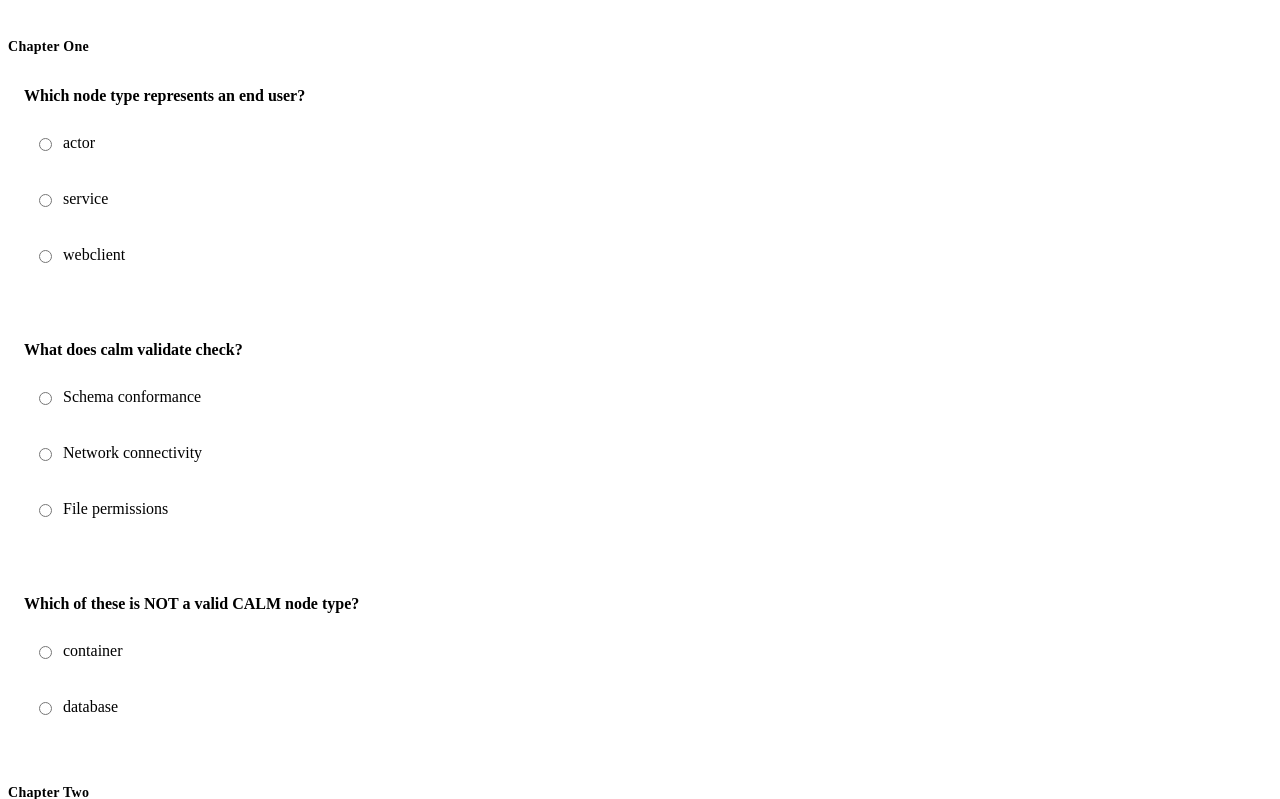
Test: Quiz › Test 9 (retake): After submit, Retake Quiz button appears and clicking it resets state
Click the radio button labelled "actor". click: point(46, 144)
box: x1=39 y1=138 x2=52 y2=151
(page scrolled)
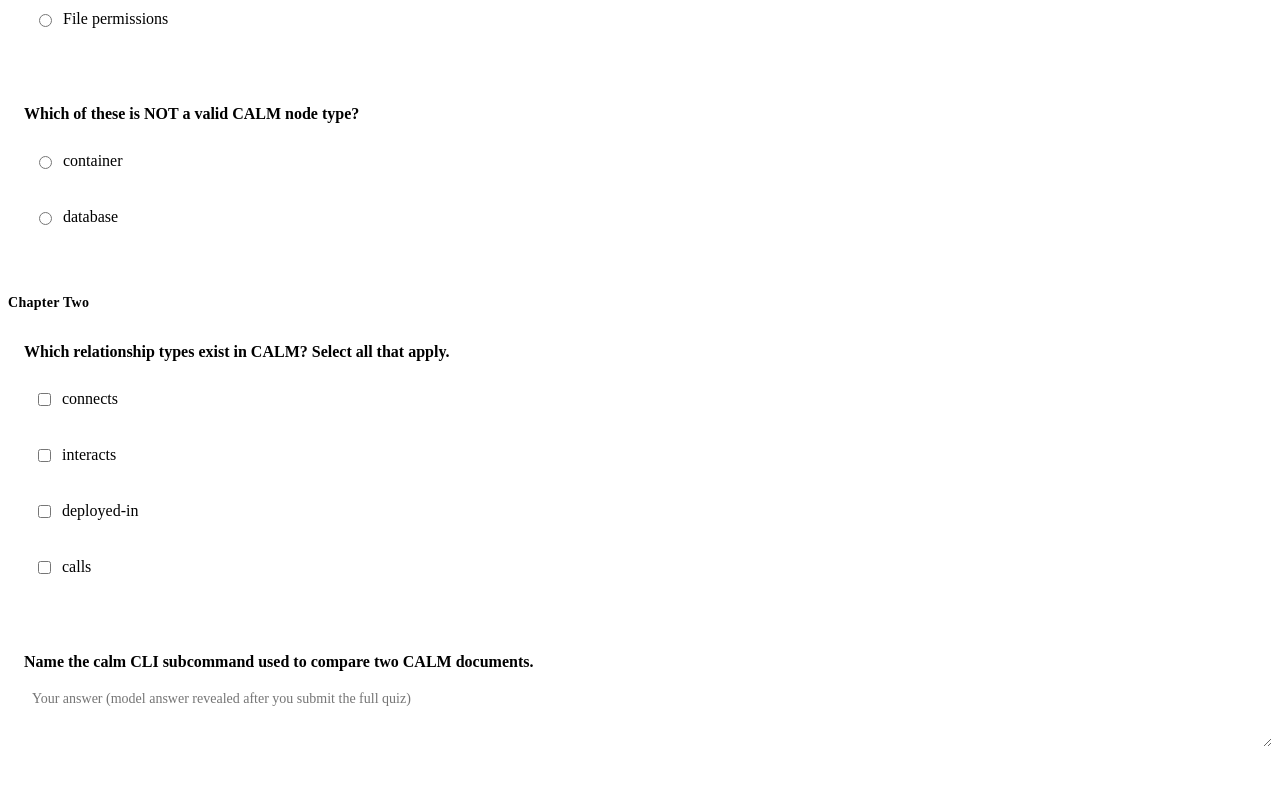
Click the checkbox labelled "connects". click: point(44, 399)
box: x1=38 y1=392 x2=51 y2=406
(page scrolled)
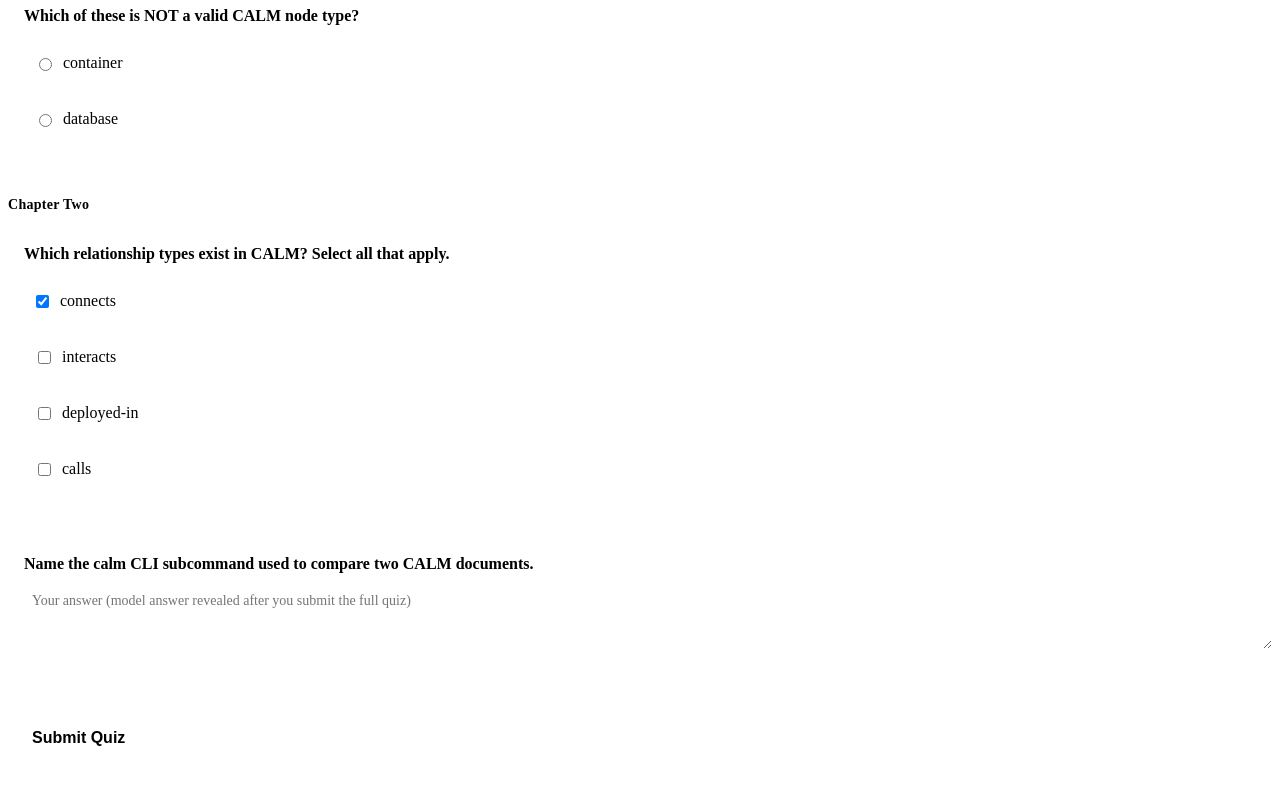
Click the button "Submit Quiz". click: point(79, 738)
box: x1=8 y1=717 x2=149 y2=759
(page scrolled)
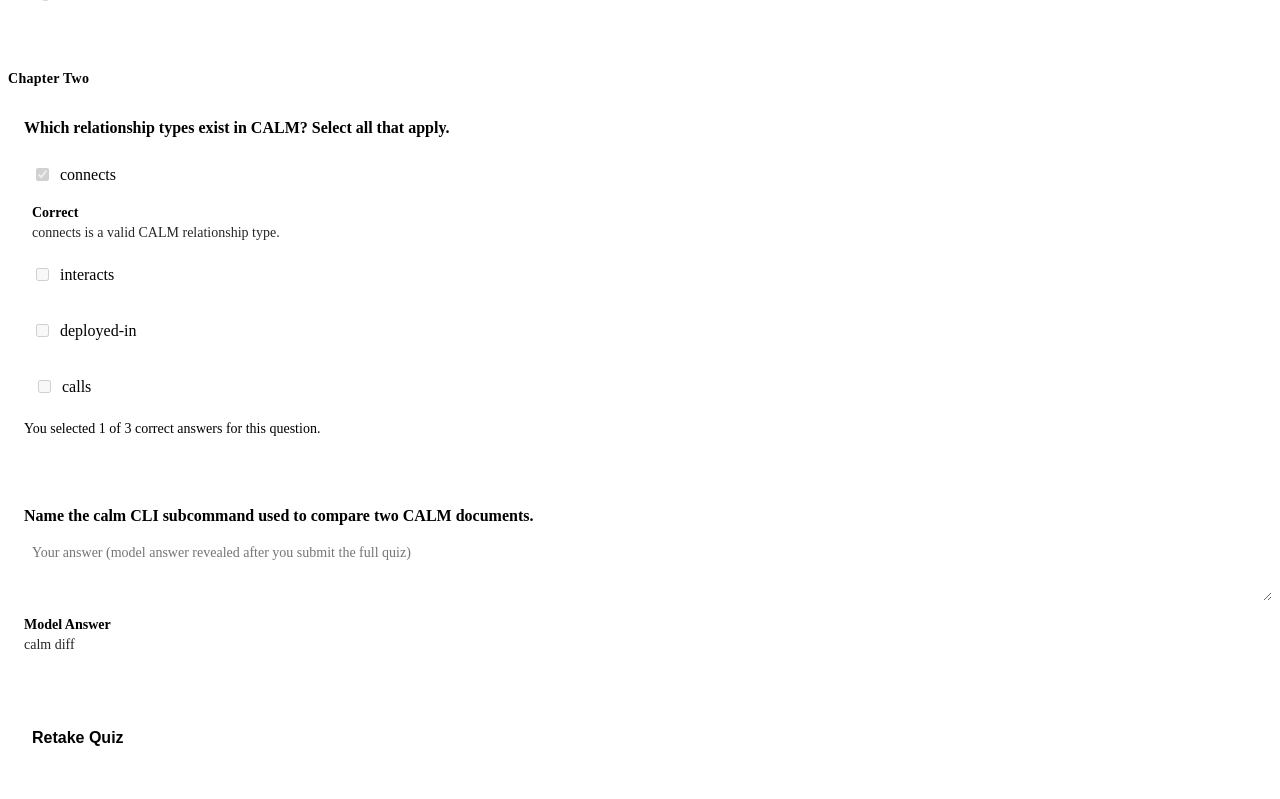
Expected: the button "Submit Quiz" is gone
Expected: the button "Retake Quiz" is shown
// Clicking Retake resets state
Click the button "Retake Quiz". click: point(78, 738)
box: x1=8 y1=717 x2=148 y2=759
(page scrolled)
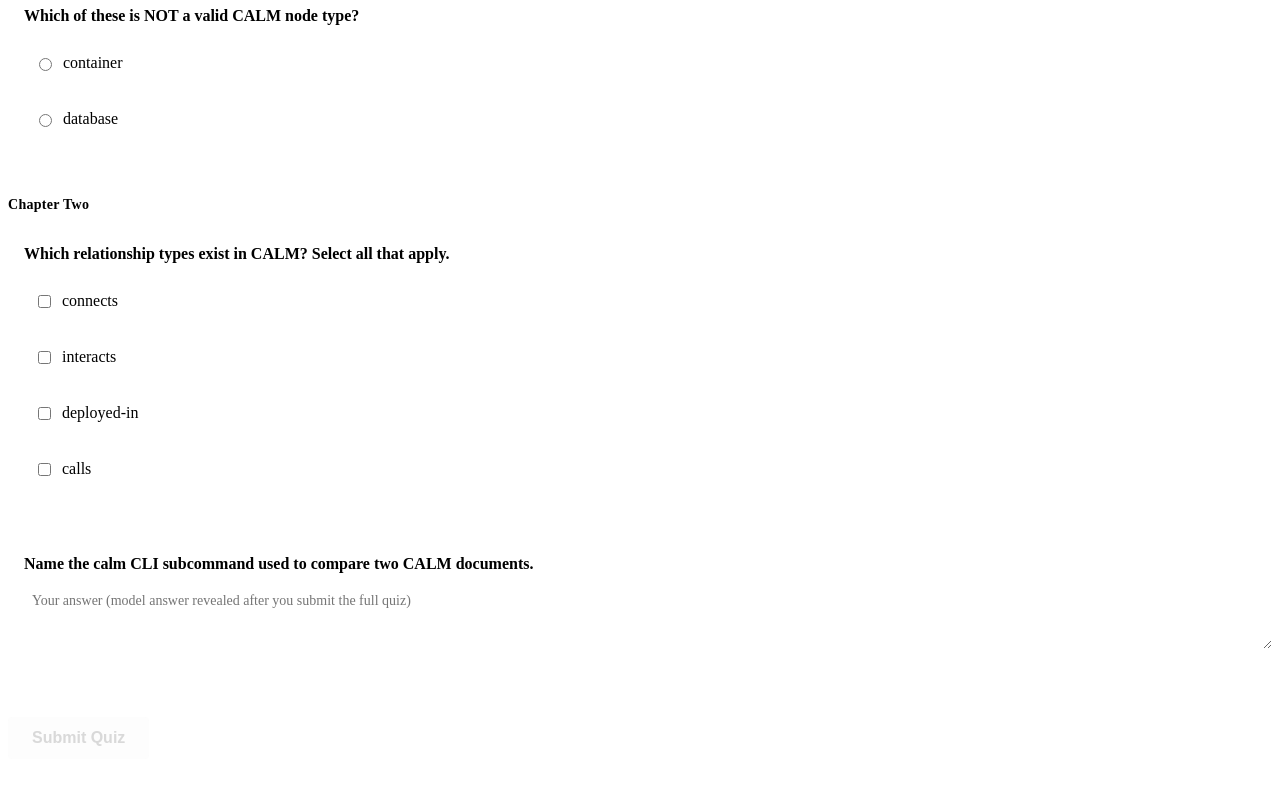
Expected: the button "Submit Quiz" is disabled, x1=8 y1=717 x2=149 y2=759
